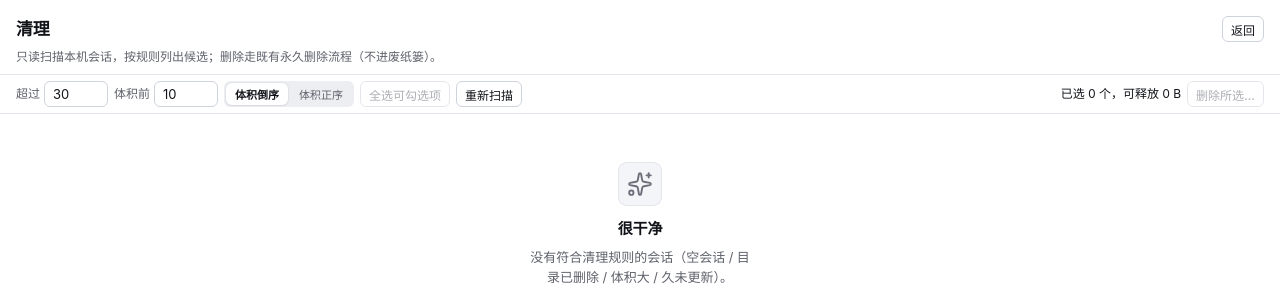
Scenario: 可清空输入，失焦恢复；有效值触发重扫
Expected: the text "没有符合清理规则的会话（空会话 / 目录已删除 / 体积大 / 久未更新）。" is shown, [530,248,750,285]
Clear the number field named "久未更新的天数" at [76, 94], box [44,81,108,107]
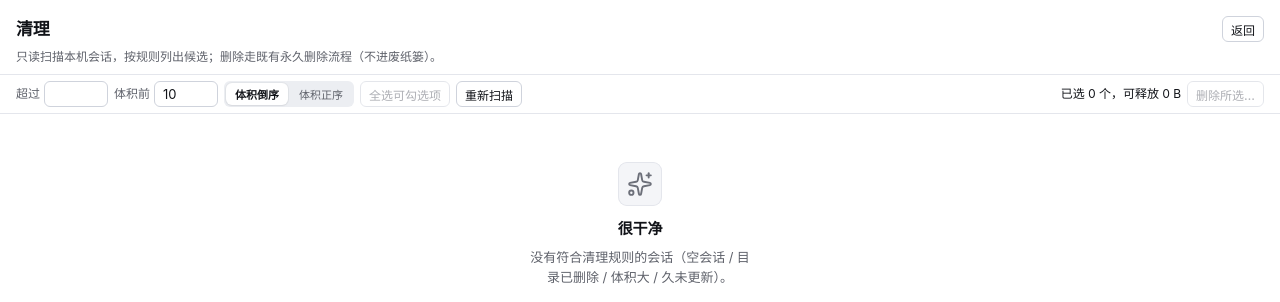
Leave the number field named "久未更新的天数", box [44,81,108,107]
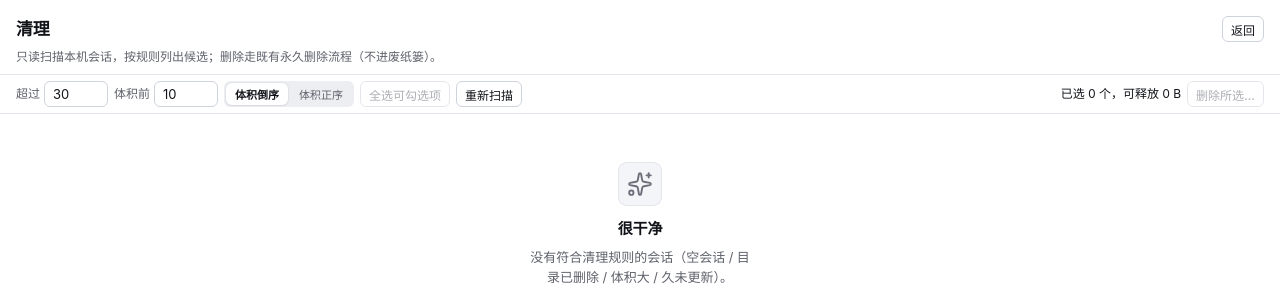
Expected: the number field named "久未更新的天数" holds "30"
Note: 有效值：提交并触发重扫。
Replace the text in the number field named "久未更新的天数" with "7" at [76, 94], box [44,81,108,107]
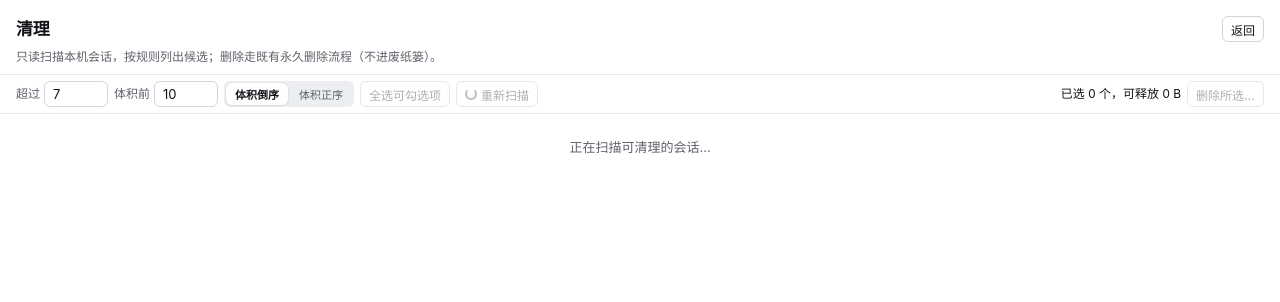
Clear the number field named "体积前 N 名" at [186, 94], box [154,81,218,107]
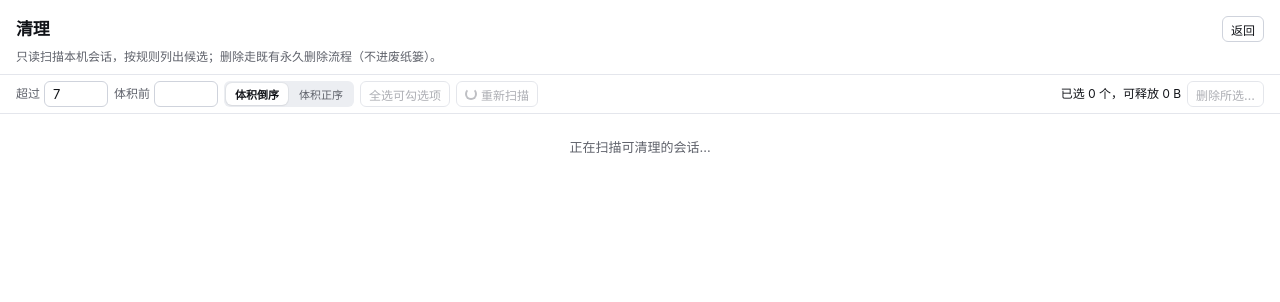
Leave the number field named "体积前 N 名", box [154,81,218,107]
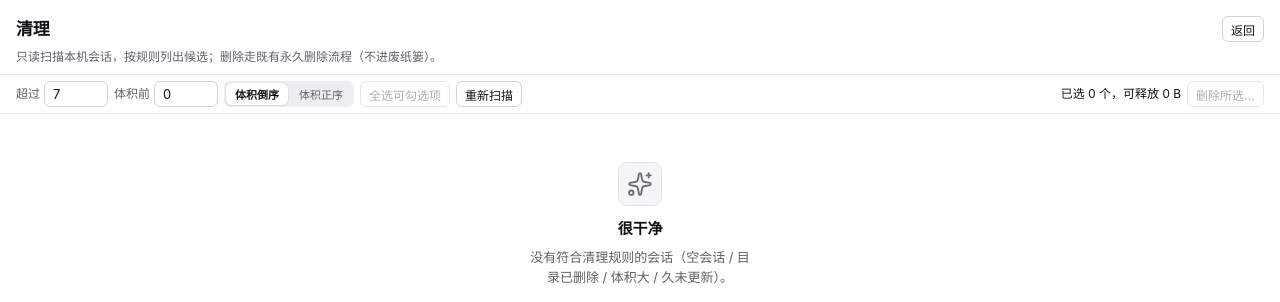
Expected: the number field named "体积前 N 名" holds "0", [154,81,218,107]
